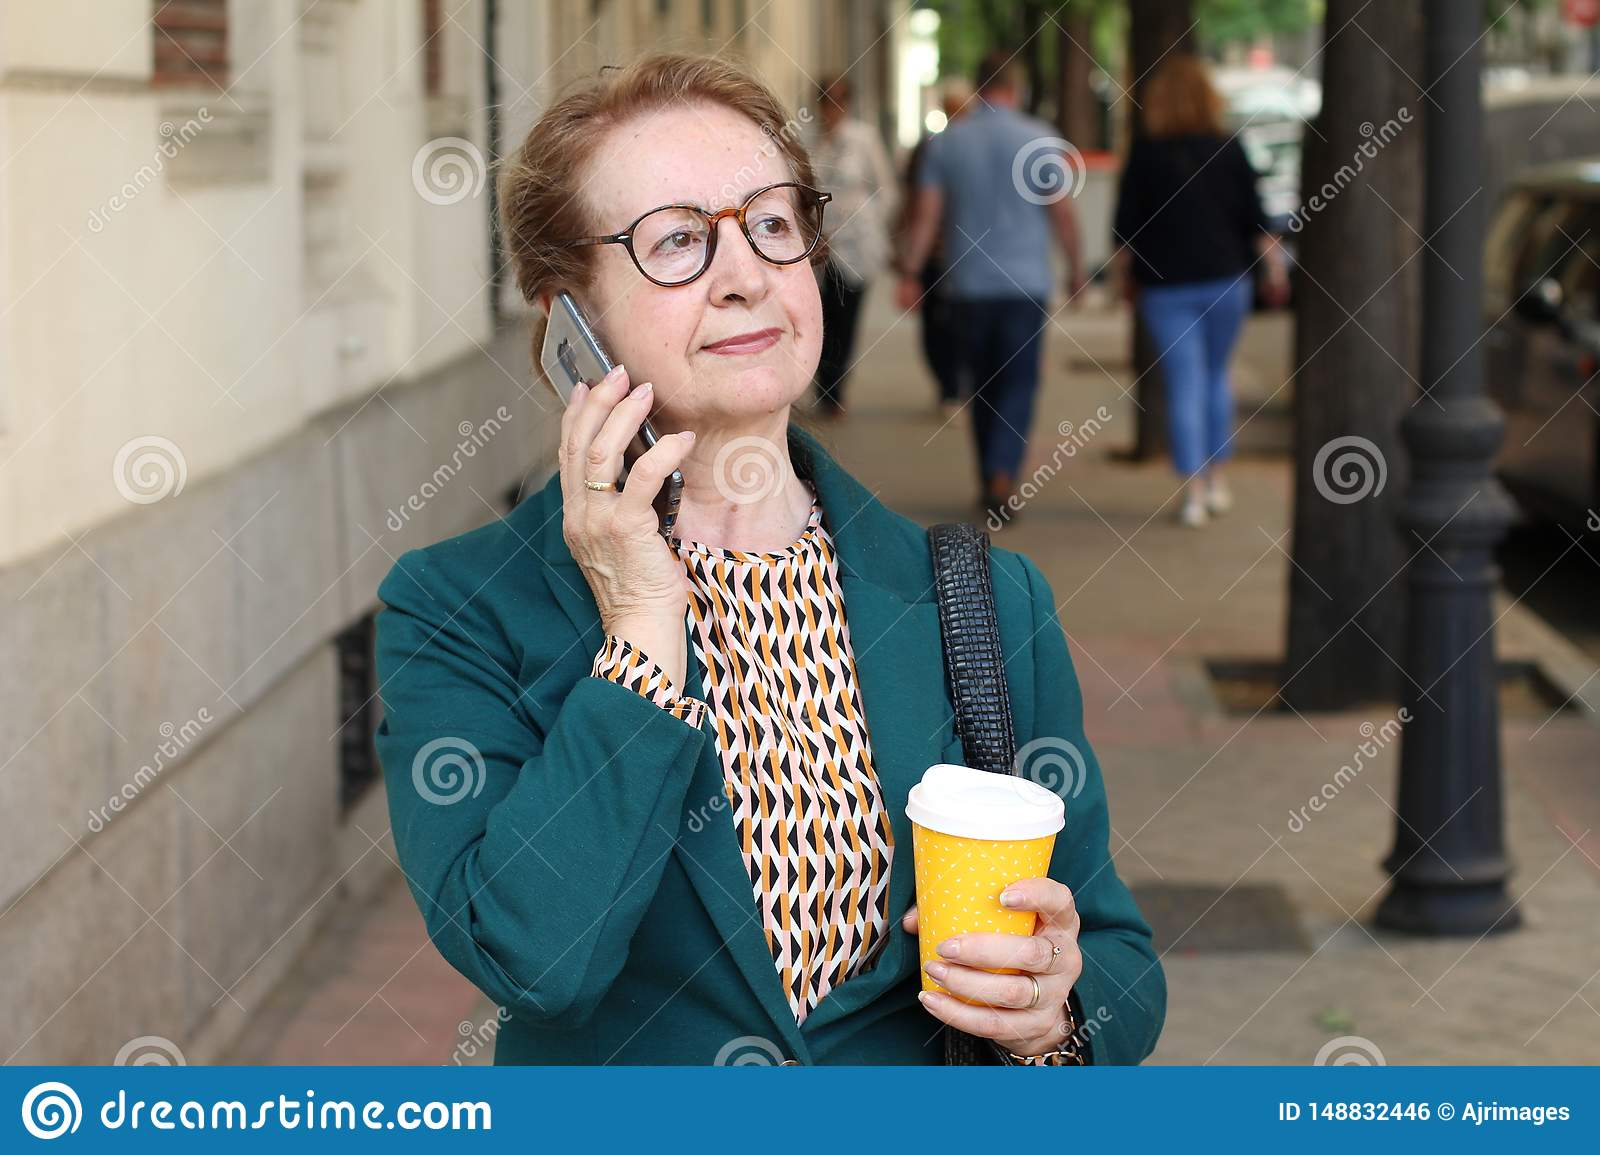phone: (545, 293, 684, 541)
talk: (540, 178, 825, 637)
